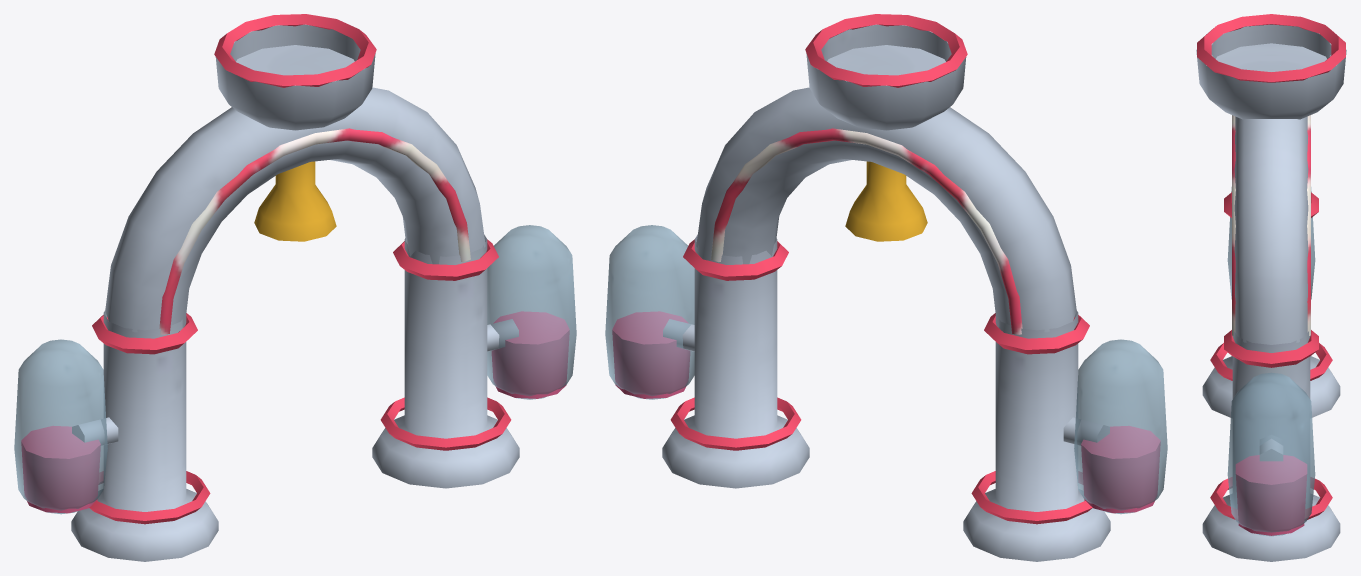
File: FlavorStation.glb
3 views of the same model, side by side, from view 1: azimuth 30°, elevation 25°; view 2: azimuth 150°, elevation 25°; view 3: azimuth 270°, elevation 25° (orthographic). The views are drawn at different scales.
Parts seen in each view (by area): view 1: Body, Jars, Accent, Syrup, Trim, Nozzle; view 2: Body, Jars, Accent, Syrup, Trim, Nozzle; view 3: Body, Jars, Accent, Syrup, Trim.
Boxes of the visible parts, left/top/right/bottom form: Body: left=71, top=24, right=519, bottom=561; Jars: left=14, top=225, right=576, bottom=514; Accent: left=89, top=14, right=511, bottom=524; Syrup: left=21, top=311, right=569, bottom=513; Trim: left=159, top=128, right=470, bottom=334; Nozzle: left=254, top=161, right=336, bottom=241; Body: left=662, top=24, right=1110, bottom=561; Jars: left=605, top=225, right=1167, bottom=514; Accent: left=670, top=14, right=1092, bottom=524; Syrup: left=612, top=311, right=1160, bottom=513; Trim: left=711, top=128, right=1022, bottom=334; Nozzle: left=845, top=161, right=927, bottom=241; Body: left=1196, top=24, right=1346, bottom=561; Jars: left=1227, top=187, right=1315, bottom=536; Accent: left=1197, top=14, right=1345, bottom=519; Syrup: left=1236, top=455, right=1306, bottom=535; Trim: left=1232, top=115, right=1310, bottom=335.
Bounding box in the file's own units: 9.5 × 7.42 × 2.4.
6 materials, 6 textured.
